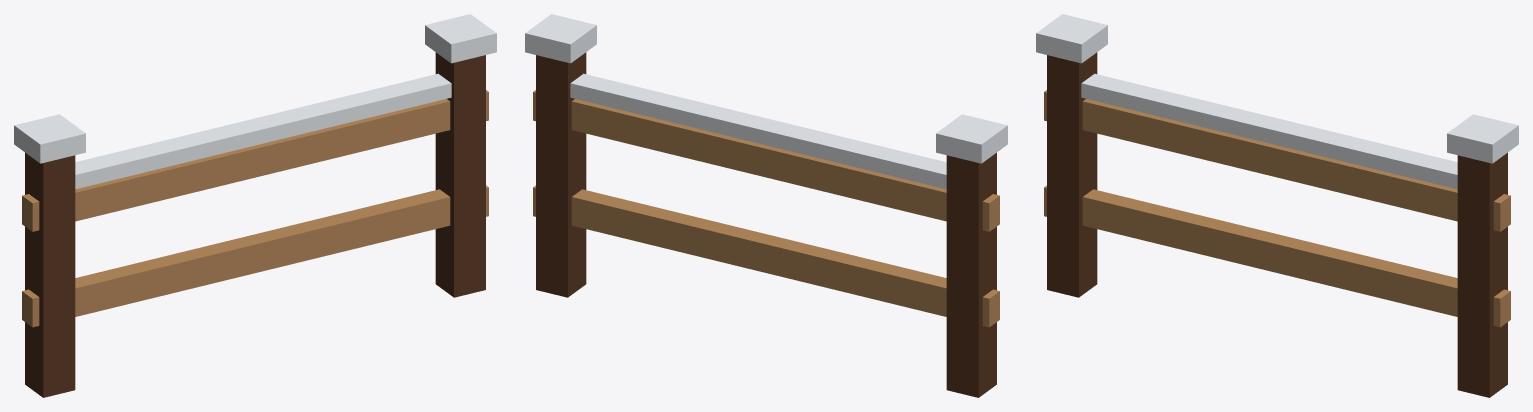
The model's file is prop_fence.glb.
3 renders of one model, left to right at view 1: azimuth 30°, elevation 25°; view 2: azimuth 150°, elevation 25°; view 3: azimuth 330°, elevation 25°, orthographic.
Parts seen in each view (by area): view 1: prop_fence; view 2: prop_fence; view 3: prop_fence.
Part boxes in pixels (x1=…): prop_fence: x1=14, y1=14, x2=496, y2=397; prop_fence: x1=525, y1=14, x2=1007, y2=397; prop_fence: x1=1036, y1=14, x2=1518, y2=397.
Size of the model in its own units: 2 by 1.08 by 0.2.
1 material, 1 textured.
